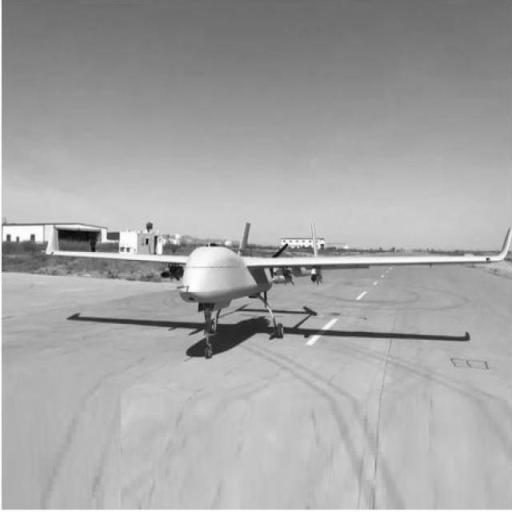uav: (34, 215, 512, 359)
